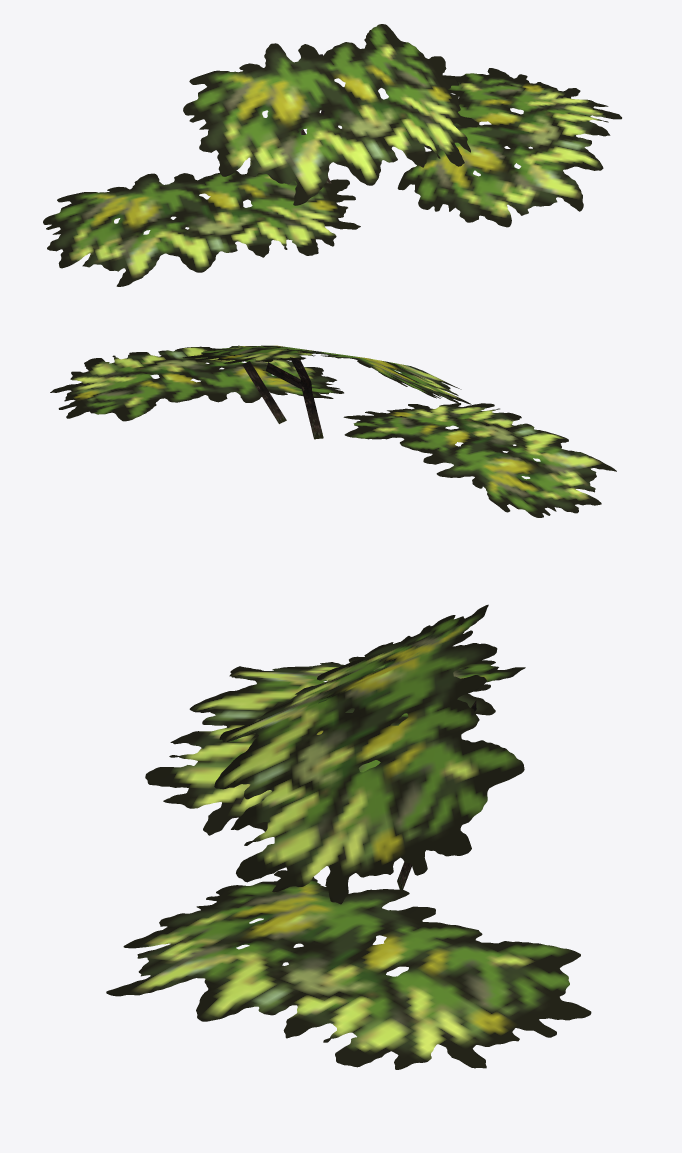
File: foriage04.fbx
The picture shows the model from 3 angles, top to bottom: view 1: azimuth 30°, elevation 25°; view 2: azimuth 150°, elevation 25°; view 3: azimuth 270°, elevation 25°; orthographic projection. The views are drawn at different scales.
Parts seen in each view (by area): view 1: foriage04; view 2: foriage04; view 3: foriage04.
Part boxes in pixels (box(x1,y1,x2,y2)): foriage04: box(43, 24, 621, 286); foriage04: box(50, 345, 616, 517); foriage04: box(106, 604, 591, 1069).
Bounding box in the file's own units: 3.44 × 0.7582 × 1.85.
